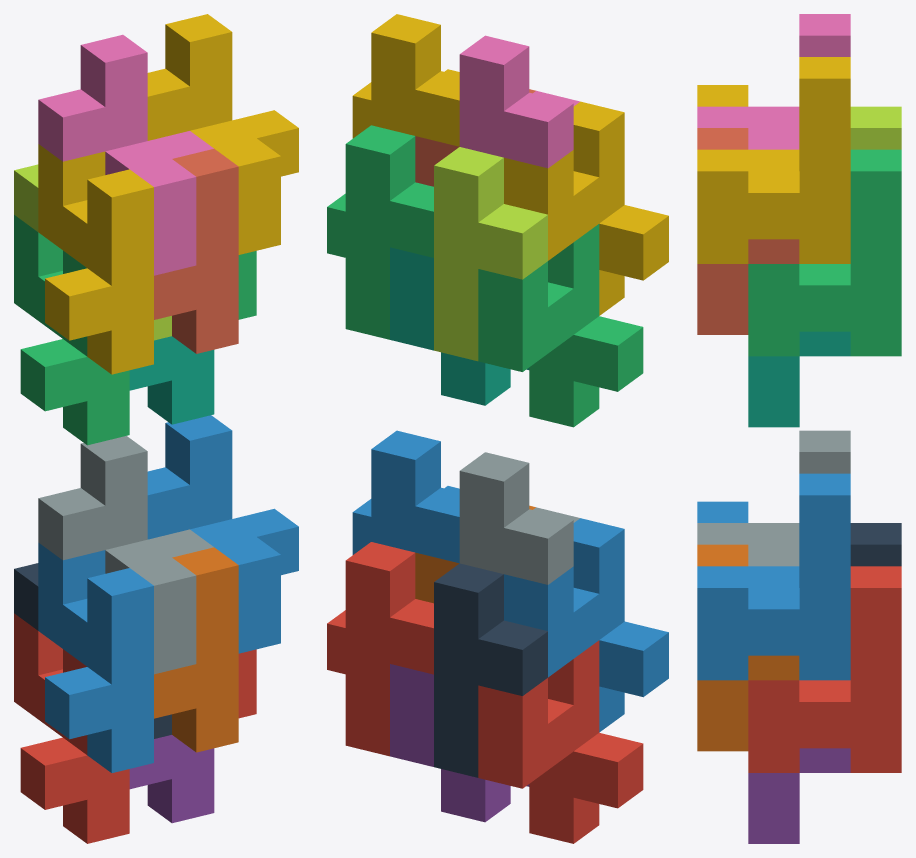
The model's file is tiling.obj.
The picture shows the model from 3 angles, left to right: view 1: azimuth 30°, elevation 25°; view 2: azimuth 150°, elevation 25°; view 3: azimuth 270°, elevation 25°; orthographic projection. The views are drawn at different scales.
Parts seen in each view (by area): view 1: copy_1_domain_4, copy_1_domain_2, copy_2_domain_4, copy_2_domain_2, copy_2_domain_8, copy_2_domain_6, copy_1_domain_3, copy_1_domain_1, copy_1_domain_8, copy_1_domain_6, copy_1_domain_5, copy_1_domain_7 (+4 smaller); view 2: copy_1_domain_1, copy_1_domain_3, copy_1_domain_4, copy_1_domain_2, copy_2_domain_3, copy_2_domain_1, copy_2_domain_7, copy_2_domain_5, copy_2_domain_4, copy_2_domain_2, copy_2_domain_8, copy_2_domain_6 (+4 smaller); view 3: copy_2_domain_6, copy_2_domain_8, copy_2_domain_5, copy_2_domain_7, copy_1_domain_6, copy_1_domain_8, copy_2_domain_2, copy_2_domain_4, copy_1_domain_7, copy_1_domain_5, copy_2_domain_1, copy_2_domain_3 (+2 smaller).
Boxes of the visible parts, x1,y1,x2,y2 form: copy_1_domain_4: (38,144,153,374); copy_1_domain_2: (38,542,153,772); copy_2_domain_4: (38,34,213,275); copy_2_domain_2: (38,436,213,674); copy_2_domain_8: (147,14,298,254); copy_2_domain_6: (147,415,298,653); copy_1_domain_3: (14,215,129,445); copy_1_domain_1: (14,613,129,843); copy_1_domain_8: (154,148,238,353); copy_1_domain_6: (154,547,238,752); copy_1_domain_5: (129,735,214,823); copy_1_domain_7: (129,336,214,424); copy_1_domain_1: (478,640,643,843); copy_1_domain_3: (478,224,643,427); copy_1_domain_4: (504,101,668,315); copy_1_domain_2: (504,518,668,732); copy_2_domain_3: (434,147,547,361); copy_2_domain_1: (434,563,547,777); copy_2_domain_7: (327,125,433,339); copy_2_domain_5: (327,542,433,756); copy_2_domain_4: (459,35,579,168); copy_2_domain_2: (459,452,579,584); copy_2_domain_8: (352,14,459,146); copy_2_domain_6: (352,430,459,563); copy_2_domain_6: (697,473,850,680); copy_2_domain_8: (697,57,850,263); copy_2_domain_5: (748,566,901,772); copy_2_domain_7: (748,149,901,356); copy_1_domain_6: (697,544,799,751); copy_1_domain_8: (697,128,799,334); copy_2_domain_2: (697,430,850,566); copy_2_domain_4: (697,14,850,149); copy_1_domain_7: (748,331,850,427); copy_1_domain_5: (748,748,850,843); copy_2_domain_1: (850,523,901,566); copy_2_domain_3: (850,106,901,149).
Size of the model in its own units: 6 by 17 by 4.
